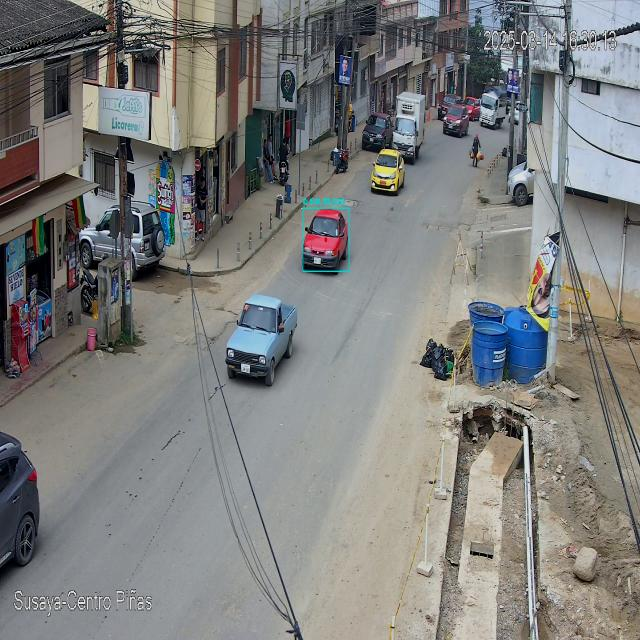CMT: (225, 296, 300, 390)
